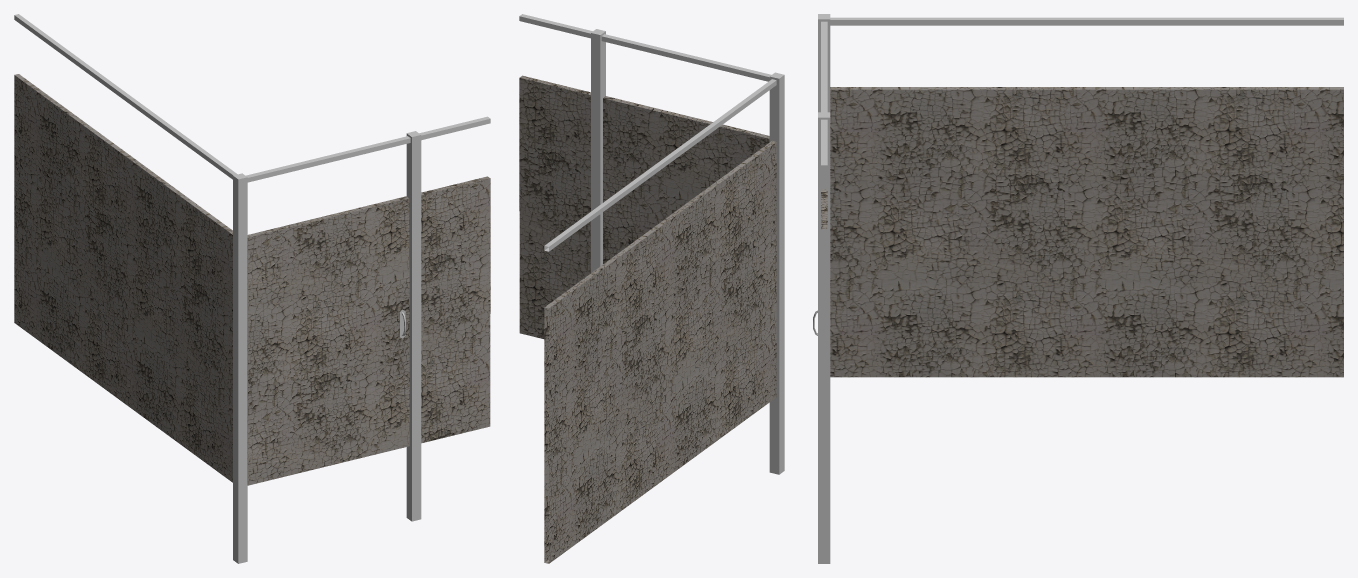
The model's file is BathStall_Animated.FBX.
The picture shows the model from 3 angles, left to right: view 1: azimuth 30°, elevation 25°; view 2: azimuth 150°, elevation 25°; view 3: azimuth 270°, elevation 25°; orthographic projection. The views are drawn at different scales.
Visible parts, largest first — view 1: BathStall_Animated, BathStall_DoorSlam; view 2: BathStall_Animated, BathStall_DoorSlam; view 3: BathStall_Animated.
Boxes of the visible parts, bbox=[...] form: BathStall_Animated: bbox=[14, 14, 490, 563]; BathStall_DoorSlam: bbox=[247, 196, 409, 485]; BathStall_Animated: bbox=[519, 14, 784, 563]; BathStall_DoorSlam: bbox=[603, 96, 769, 263]; BathStall_Animated: bbox=[818, 14, 1343, 563].
Bounding box in the file's own units: 179 × 280 × 260.
